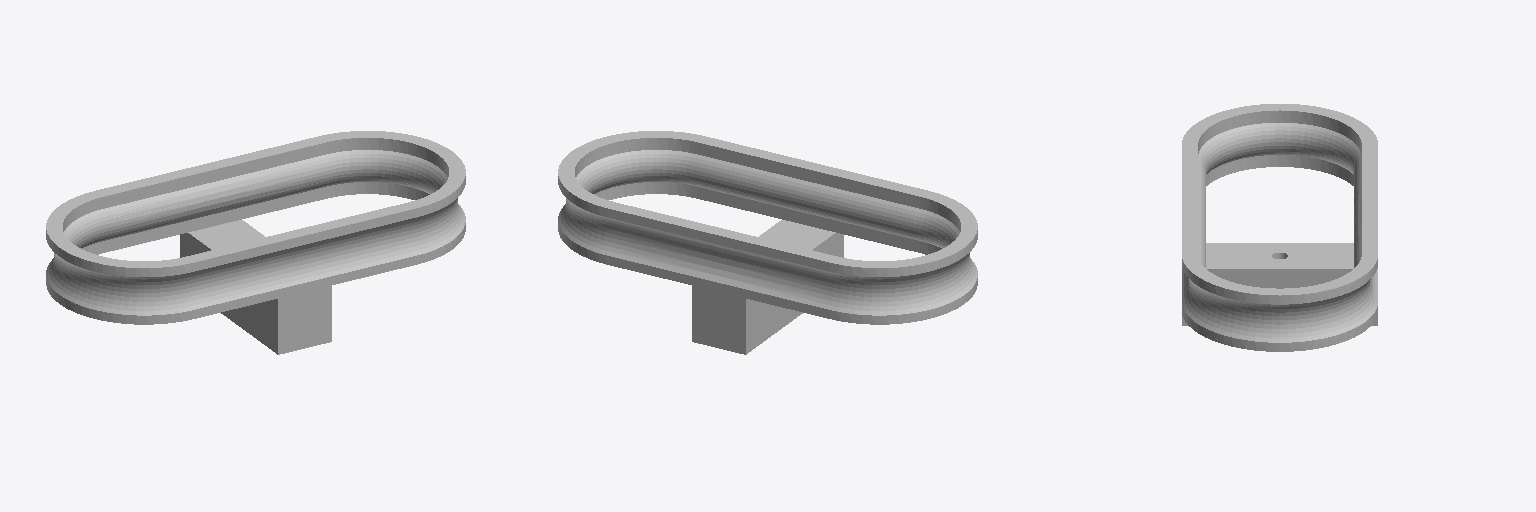
Rendered from walkingCR-wheel-left.obj.
3 renders of one model, left to right at view 1: azimuth 30°, elevation 25°; view 2: azimuth 150°, elevation 25°; view 3: azimuth 270°, elevation 25°, orthographic.
Visible parts, largest first — view 1: Root|FGCCWheelWithCentralBar-Left_(Default)|Default|color; view 2: Root|FGCCWheelWithCentralBar-Left_(Default)|Default|color; view 3: Root|FGCCWheelWithCentralBar-Left_(Default)|Default|color.
Part boxes in pixels (x1,y1,x2,y2): Root|FGCCWheelWithCentralBar-Left_(Default)|Default|color: (46, 131, 465, 354); Root|FGCCWheelWithCentralBar-Left_(Default)|Default|color: (558, 131, 977, 354); Root|FGCCWheelWithCentralBar-Left_(Default)|Default|color: (1182, 104, 1377, 351).
Bounding box in the file's own units: 0.2771 × 0.076 × 0.12.